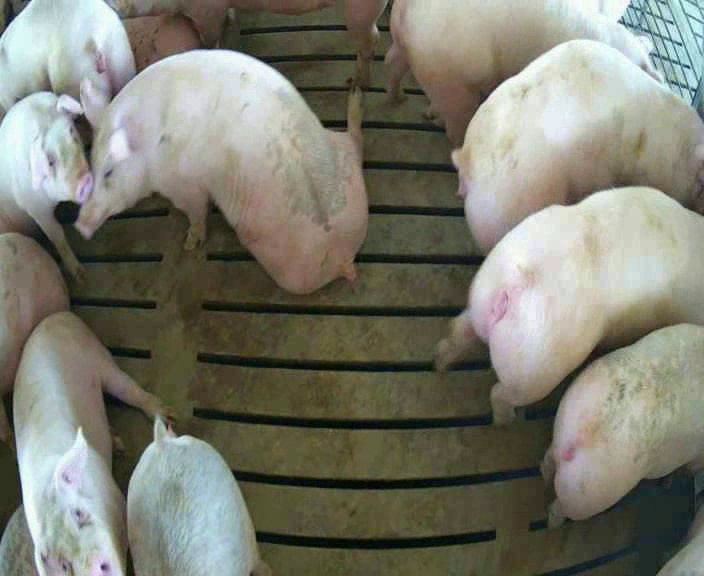pig: (76, 50, 367, 292), (435, 187, 703, 423), (385, 2, 658, 145), (544, 324, 703, 519), (128, 415, 269, 574), (0, 92, 91, 275), (0, 233, 68, 394)
